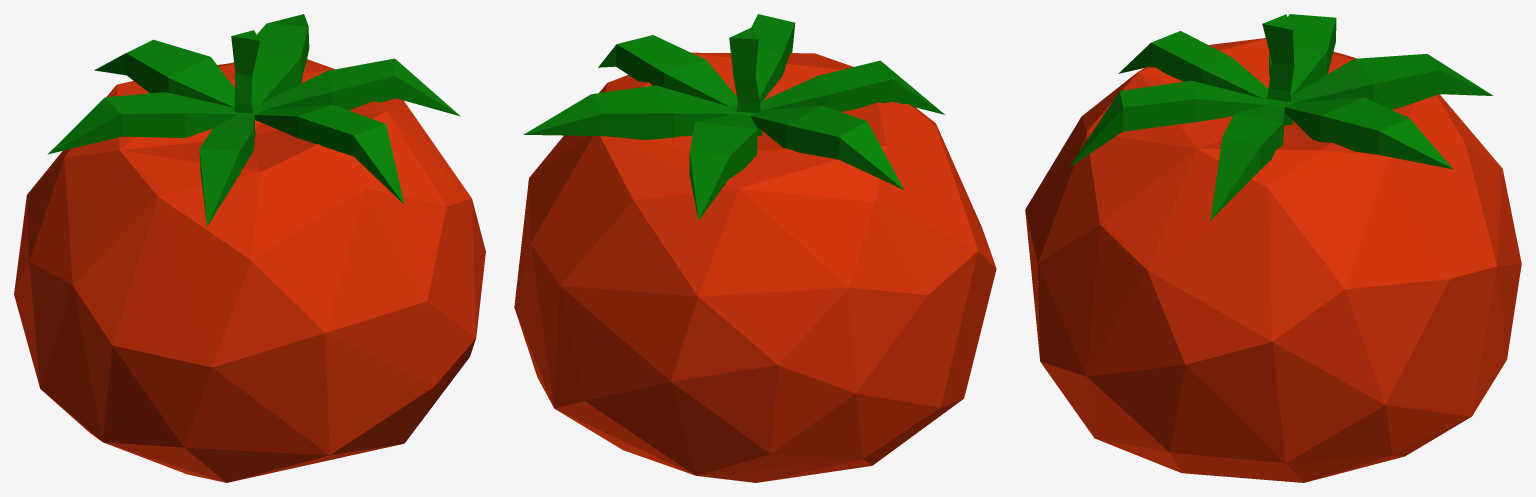
Rendered from Tomato.glb.
3 renders of one model, left to right at view 1: azimuth 30°, elevation 25°; view 2: azimuth 150°, elevation 25°; view 3: azimuth 270°, elevation 25°, orthographic. The views are drawn at different scales.
Visible parts, largest first — view 1: Tomato; view 2: Tomato; view 3: Tomato.
Boxes of the visible parts, x1,y1,x2,y2 form: Tomato: (14, 14, 485, 482); Tomato: (514, 14, 996, 482); Tomato: (1025, 14, 1521, 482).
Bounding box in the file's own units: 0.1898 × 0.1711 × 0.1904.
1 material, 1 textured.
